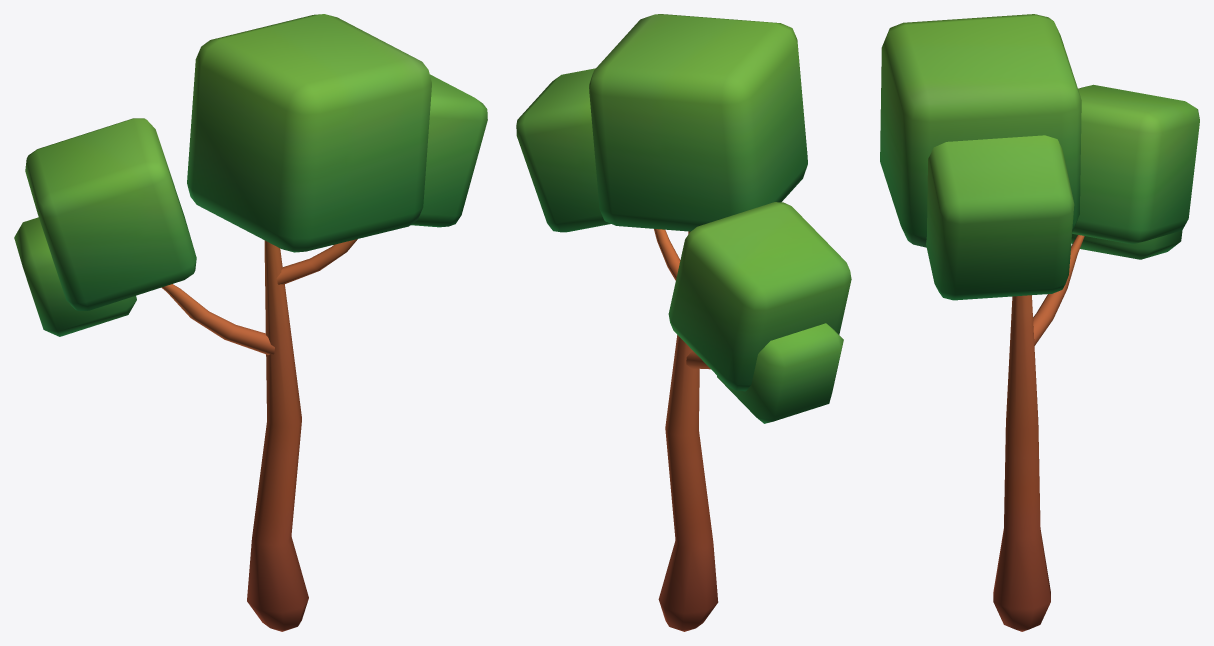
The model's file is Tree_2_C_Color1.glb.
3 views of the same model, side by side, from view 1: azimuth 30°, elevation 25°; view 2: azimuth 150°, elevation 25°; view 3: azimuth 270°, elevation 25° (orthographic). The views are drawn at different scales.
Visible parts, largest first — view 1: Tree_2_C_Color1; view 2: Tree_2_C_Color1; view 3: Tree_2_C_Color1.
Part boxes in pixels (left/top/right/bottom): Tree_2_C_Color1: left=14, top=14, right=487, bottom=631; Tree_2_C_Color1: left=516, top=14, right=851, bottom=631; Tree_2_C_Color1: left=880, top=14, right=1199, bottom=631.
Size of the model in its own units: 4.6 by 6.92 by 3.4.
Materials: 1 (1 with a texture image).
